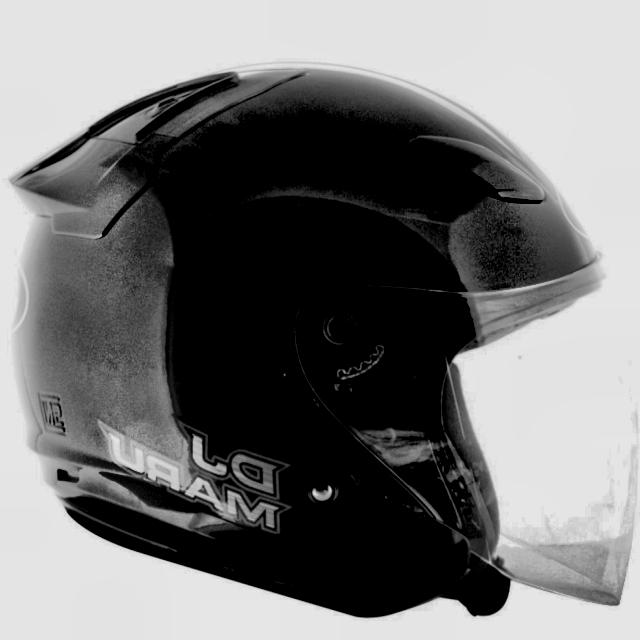Helmet: (6, 56, 640, 615)
